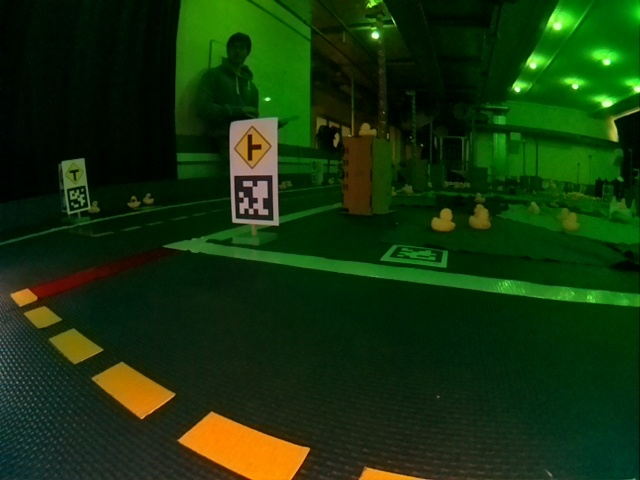Duckie: (432, 208, 455, 231), (473, 209, 489, 228), (565, 214, 579, 230), (360, 126, 375, 135), (128, 196, 137, 205), (144, 194, 153, 203), (92, 203, 99, 212)
Intersection sign: (231, 121, 273, 169), (64, 162, 86, 185)
QR code: (231, 176, 276, 224), (380, 245, 447, 267), (67, 190, 91, 213)
